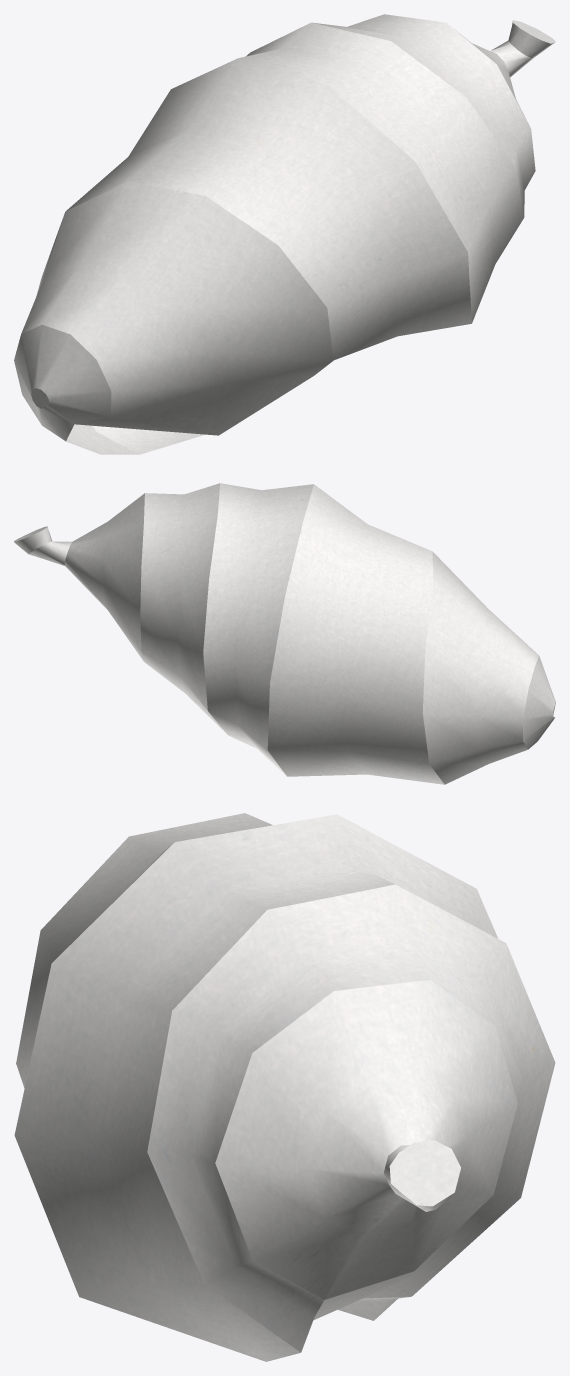
The model's file is kakon.glb.
The picture shows the model from 3 angles, top to bottom: view 1: azimuth 30°, elevation 25°; view 2: azimuth 150°, elevation 25°; view 3: azimuth 270°, elevation 25°; orthographic projection. The views are drawn at different scales.
Visible parts, largest first — view 1: kakon.001; view 2: kakon.001; view 3: kakon.001.
Part boxes in pixels (x1,y1,x2,y2): kakon.001: (14, 14, 555, 454); kakon.001: (14, 483, 555, 784); kakon.001: (14, 813, 555, 1361).
Bounding box in the file's own units: 54.47 × 27.85 × 27.16.
1 material, 1 textured.
